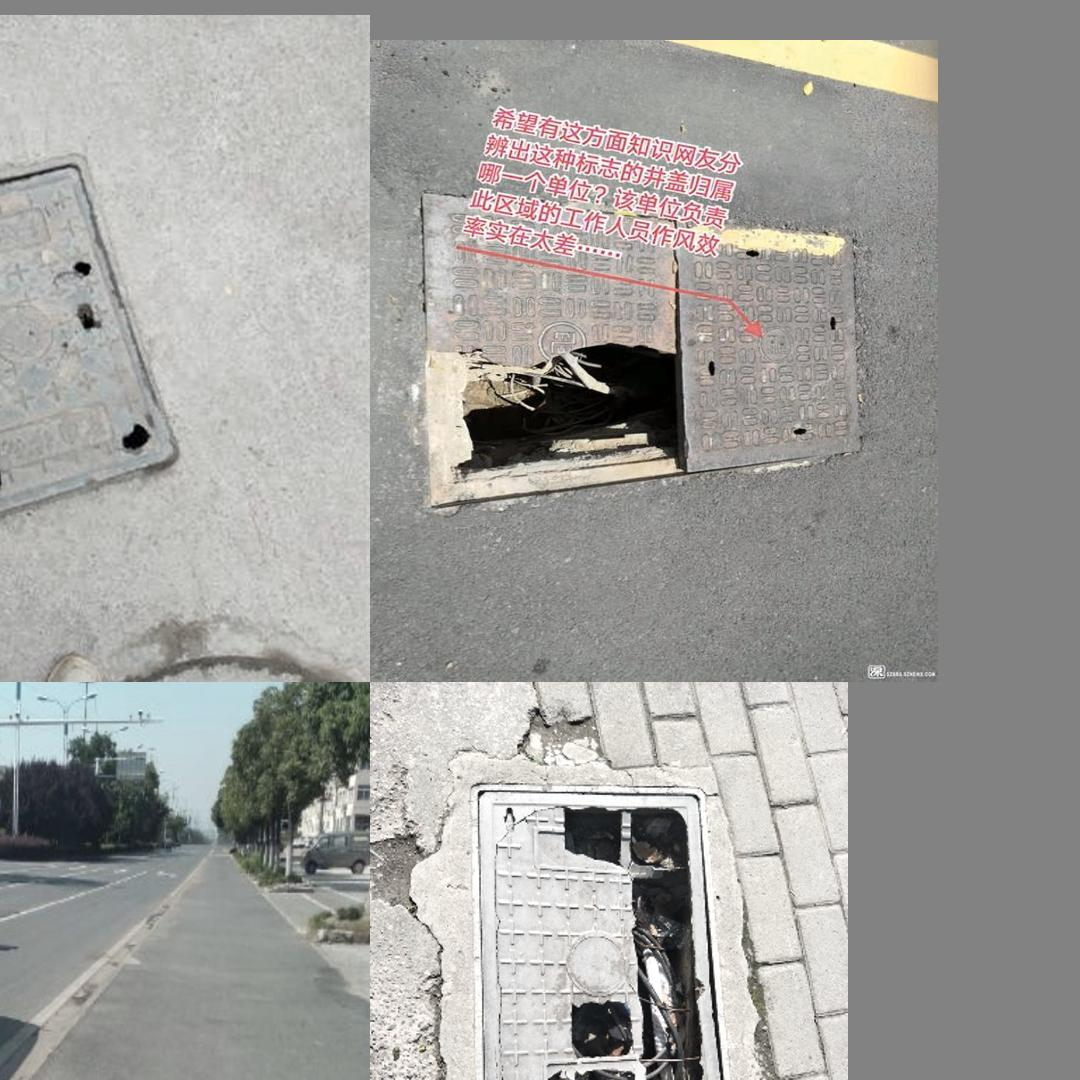broke: (392, 184, 891, 506), (470, 783, 735, 1080), (0, 153, 185, 527)
